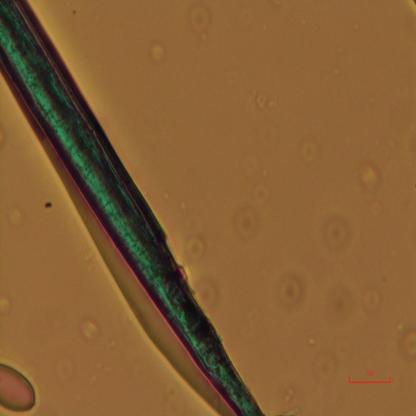Air bubble: (0, 363, 41, 412)
Background material: (312, 334, 354, 384), (245, 145, 274, 204), (290, 125, 326, 166), (318, 213, 351, 251), (354, 155, 384, 193), (194, 271, 226, 305), (274, 276, 306, 310), (231, 205, 258, 240), (248, 76, 270, 113), (76, 313, 102, 342), (187, 4, 210, 36), (182, 233, 208, 260), (361, 285, 385, 313), (399, 324, 416, 362), (145, 38, 168, 66), (6, 206, 24, 233), (39, 196, 55, 212)
Microfibre: (0, 0, 264, 414)
